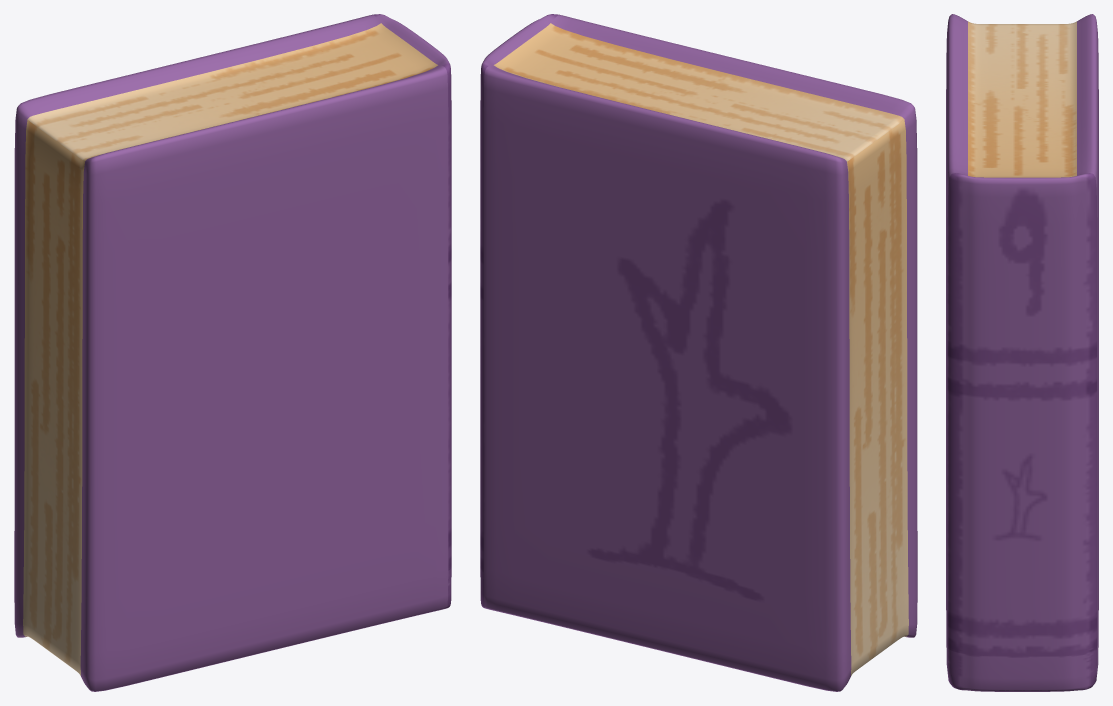
File: level09.fbx
3 views of the same model, side by side, from view 1: azimuth 30°, elevation 25°; view 2: azimuth 150°, elevation 25°; view 3: azimuth 270°, elevation 25° (orthographic). The views are drawn at different scales.
Visible parts, largest first — view 1: Cube; view 2: Cube; view 3: Cube.
Boxes of the visible parts, x1,y1,x2,y2 form: Cube: (14, 14, 451, 691); Cube: (480, 14, 917, 691); Cube: (946, 14, 1098, 691).
Size of the model in its own units: 7.54 by 20.27 by 28.04.
